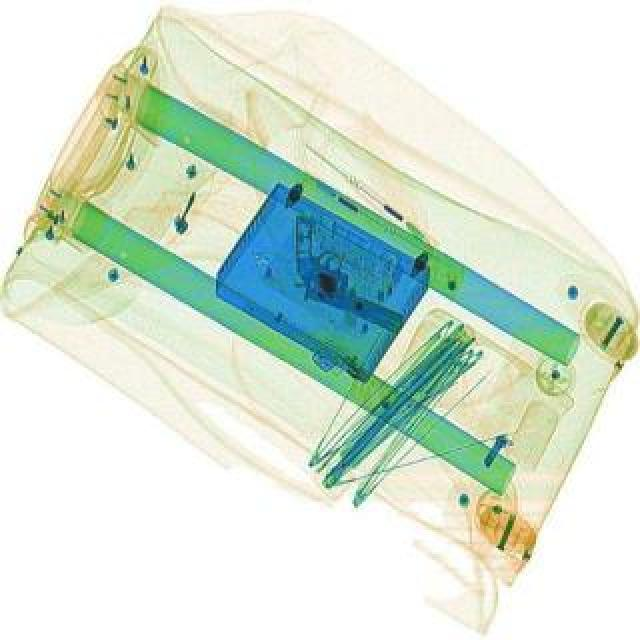gun: (264, 214, 432, 338)
